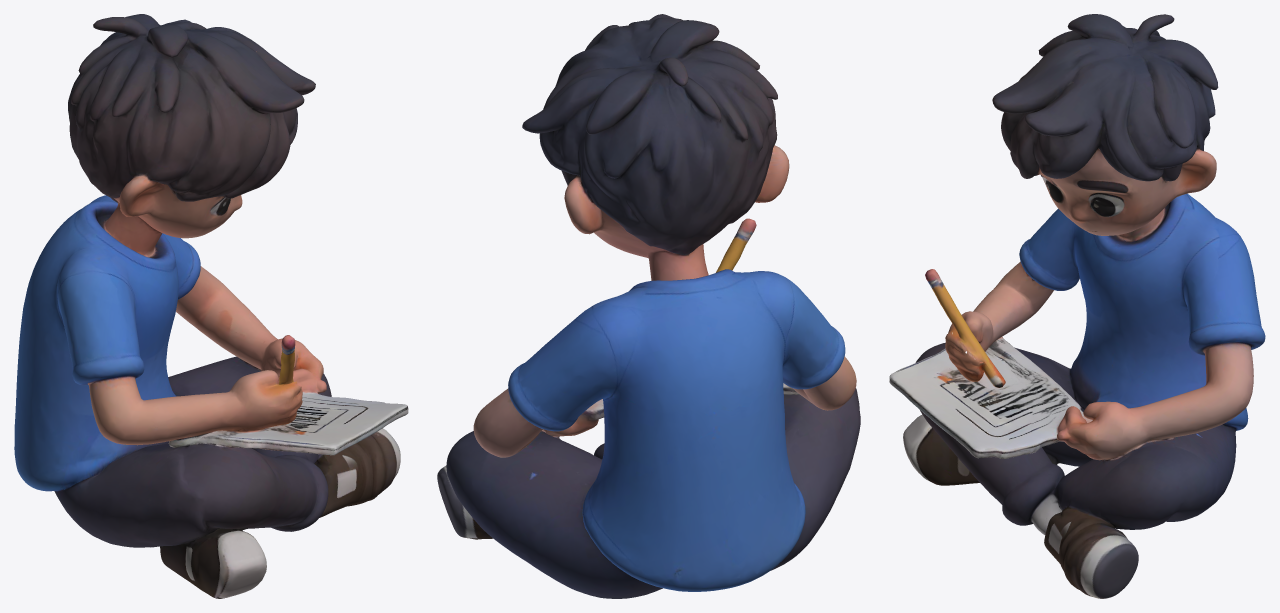
The model's file is noah.glb.
3 renders of one model, left to right at view 1: azimuth 30°, elevation 25°; view 2: azimuth 150°, elevation 25°; view 3: azimuth 270°, elevation 25°, orthographic. The views are drawn at different scales.
Parts seen in each view (by area): view 1: tripo_node_24dbb54e-91ce-4d82-8721-8b4e2ee32962, tripo_node_24dbb54e-91ce-4d82-8721-8b4e2ee32962.002, tripo_node_24dbb54e-91ce-4d82-8721-8b4e2ee32962.003; view 2: tripo_node_24dbb54e-91ce-4d82-8721-8b4e2ee32962, tripo_node_24dbb54e-91ce-4d82-8721-8b4e2ee32962.002; view 3: tripo_node_24dbb54e-91ce-4d82-8721-8b4e2ee32962, tripo_node_24dbb54e-91ce-4d82-8721-8b4e2ee32962.002, tripo_node_24dbb54e-91ce-4d82-8721-8b4e2ee32962.003.
Part boxes in pixels (box(x1,y1,x2,y2)): tripo_node_24dbb54e-91ce-4d82-8721-8b4e2ee32962: box(14, 14, 408, 598); tripo_node_24dbb54e-91ce-4d82-8721-8b4e2ee32962.002: box(279, 335, 295, 384); tripo_node_24dbb54e-91ce-4d82-8721-8b4e2ee32962.003: box(277, 381, 302, 425); tripo_node_24dbb54e-91ce-4d82-8721-8b4e2ee32962: box(437, 14, 860, 598); tripo_node_24dbb54e-91ce-4d82-8721-8b4e2ee32962.002: box(716, 218, 756, 272); tripo_node_24dbb54e-91ce-4d82-8721-8b4e2ee32962: box(889, 14, 1265, 598); tripo_node_24dbb54e-91ce-4d82-8721-8b4e2ee32962.002: box(925, 269, 1005, 385); tripo_node_24dbb54e-91ce-4d82-8721-8b4e2ee32962.003: box(945, 332, 1002, 387).
Bounding box in the file's own units: 0.6646 × 0.9478 × 0.6624.
Materials: 1 (1 with a texture image).
